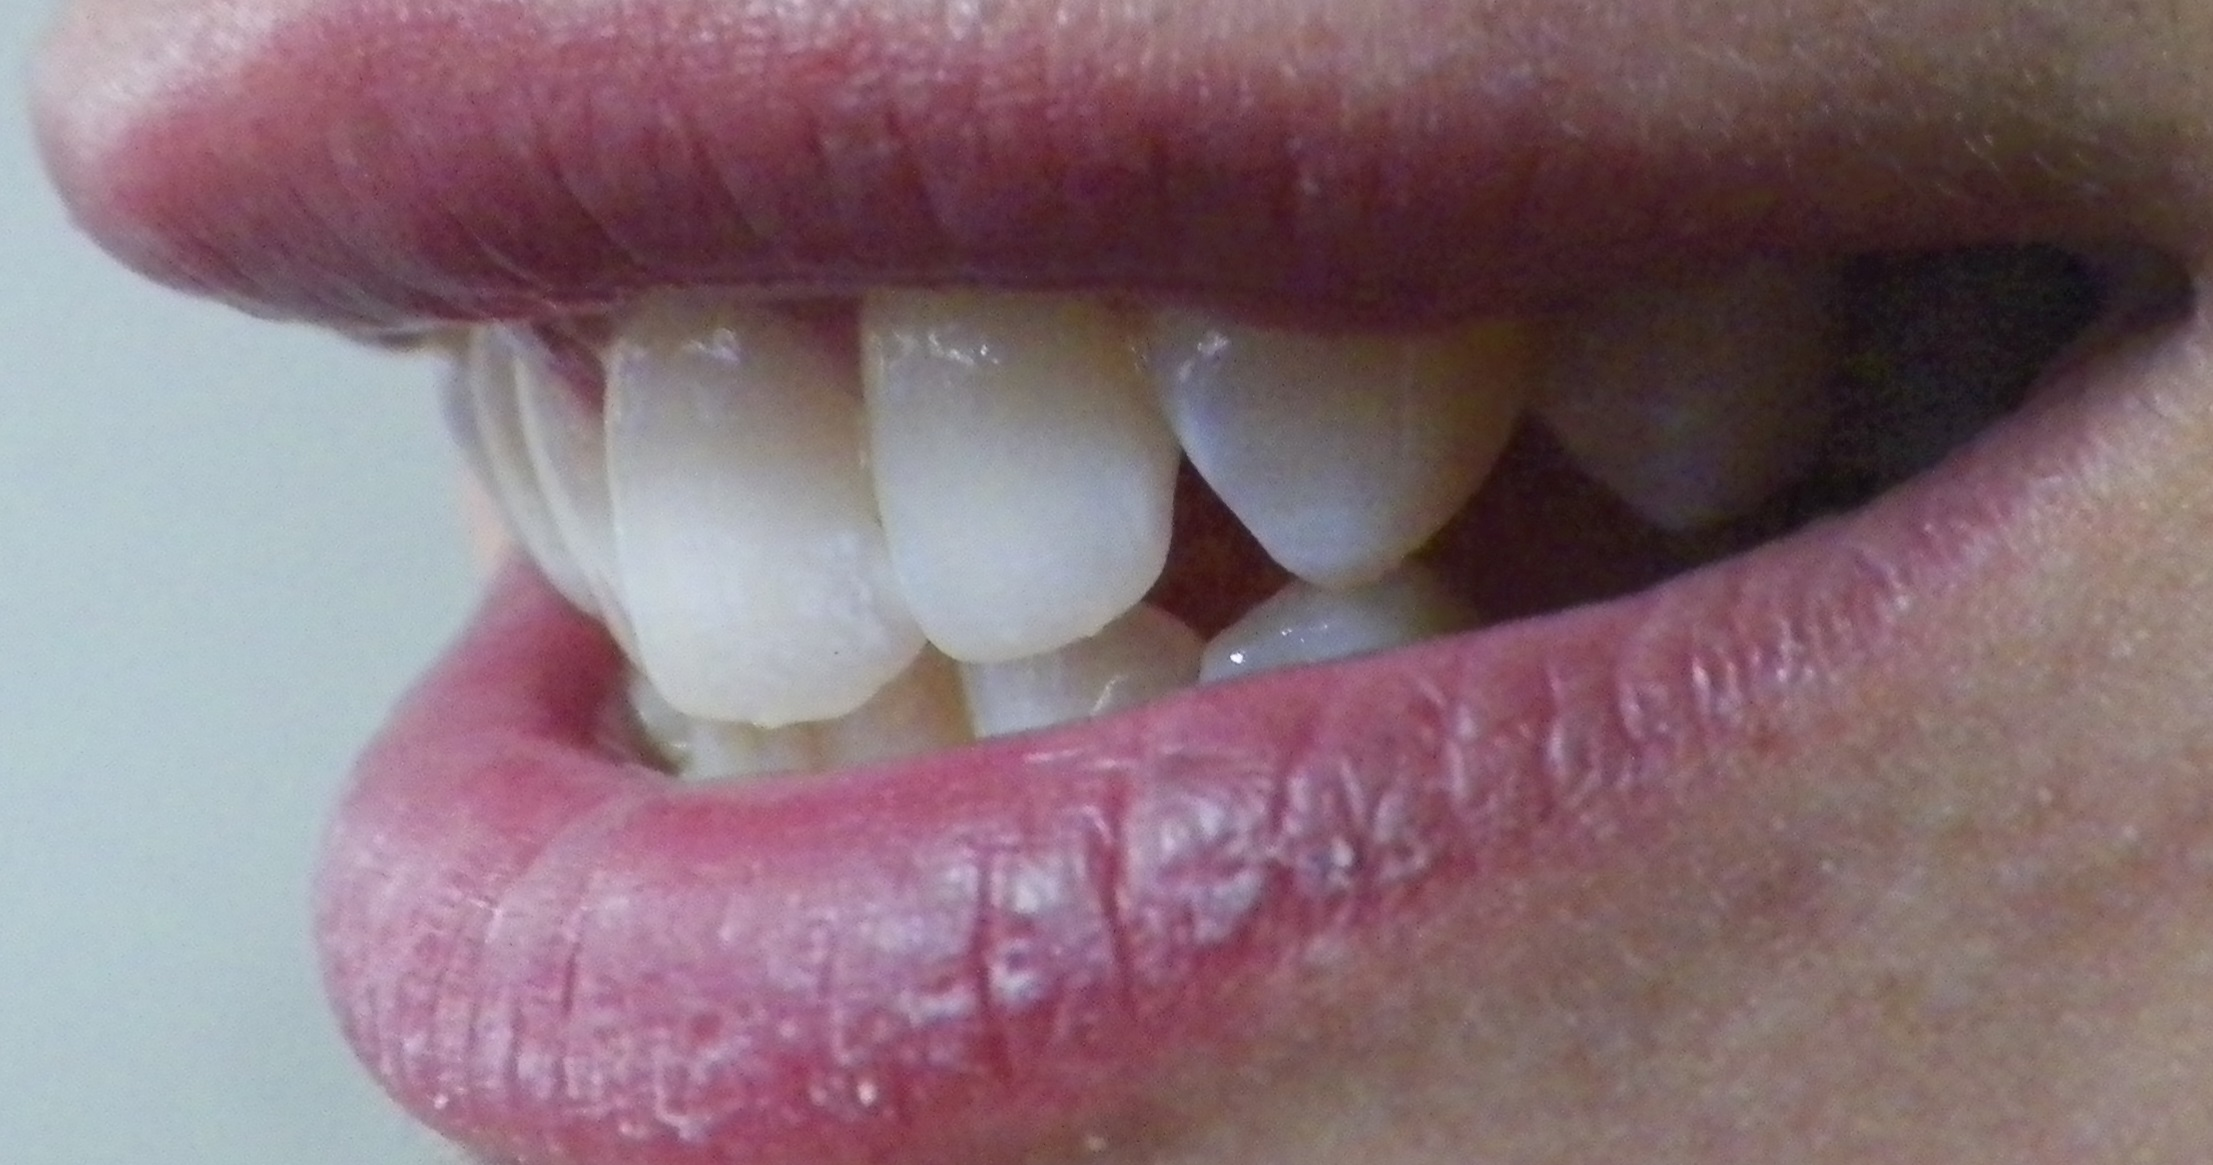boca: (426, 293, 2067, 767)
